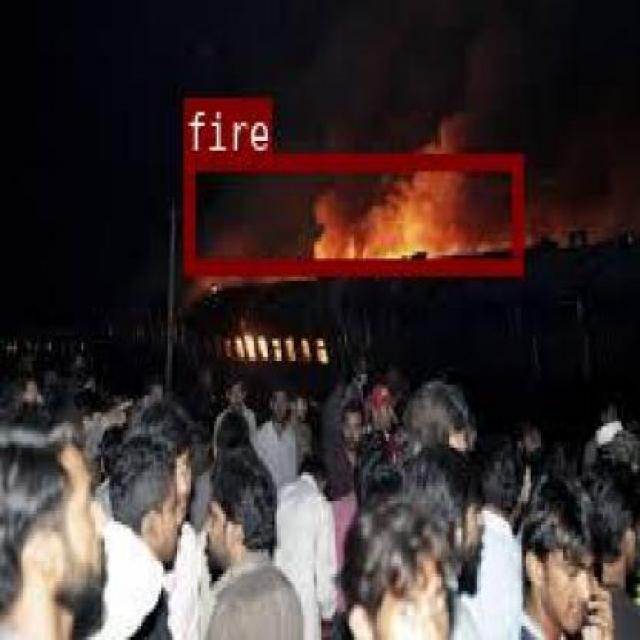Fire: (339, 119, 351, 212)
